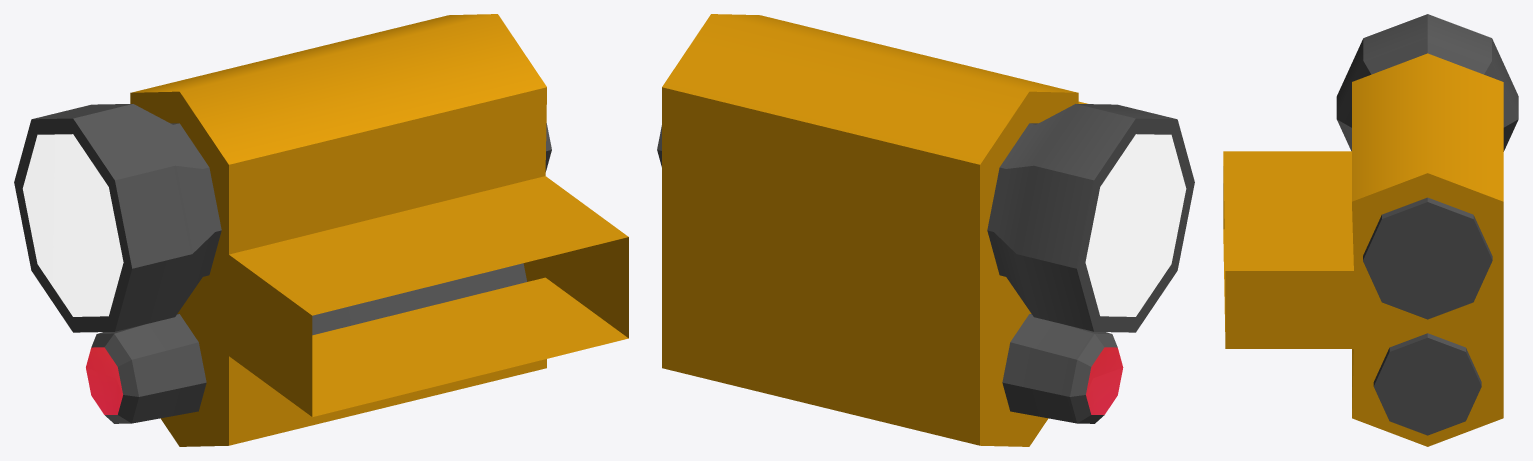
Rendered from SM_LaserComboM.fbx.
3 renders of one model, left to right at view 1: azimuth 30°, elevation 25°; view 2: azimuth 150°, elevation 25°; view 3: azimuth 270°, elevation 25°, orthographic. The views are drawn at different scales.
Parts seen in each view (by area): view 1: SM_LaserComboM; view 2: SM_LaserComboM; view 3: SM_LaserComboM.
Boxes of the visible parts, box(x1,y1,x2,y2) form: SM_LaserComboM: box(14, 14, 628, 446); SM_LaserComboM: box(657, 14, 1194, 446); SM_LaserComboM: box(1223, 14, 1518, 446).
Size of the model in its own units: 4.76 by 3.7 by 3.62.
